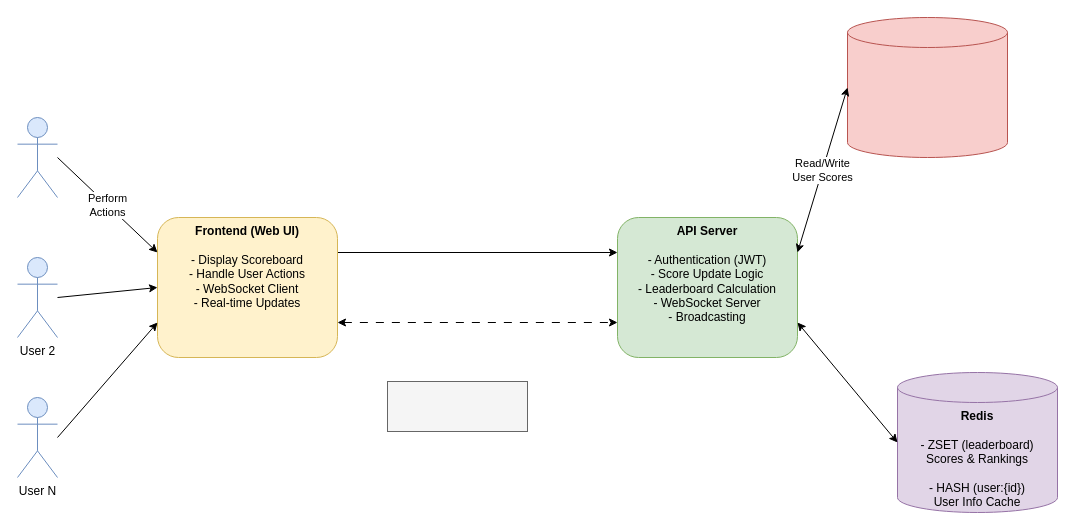
Image size: 1075x530. Some labels were removed from this diagram. The centre of each missing label's shape, as x and y in pixels:
"Database Tables: - users - score_actions (Source of Truth)" goes at pixel 927 87.
"User 1" goes at pixel 37 157.
"━━━ HTTP/TCP - - - - WebSocket" goes at pixel 457 406.
